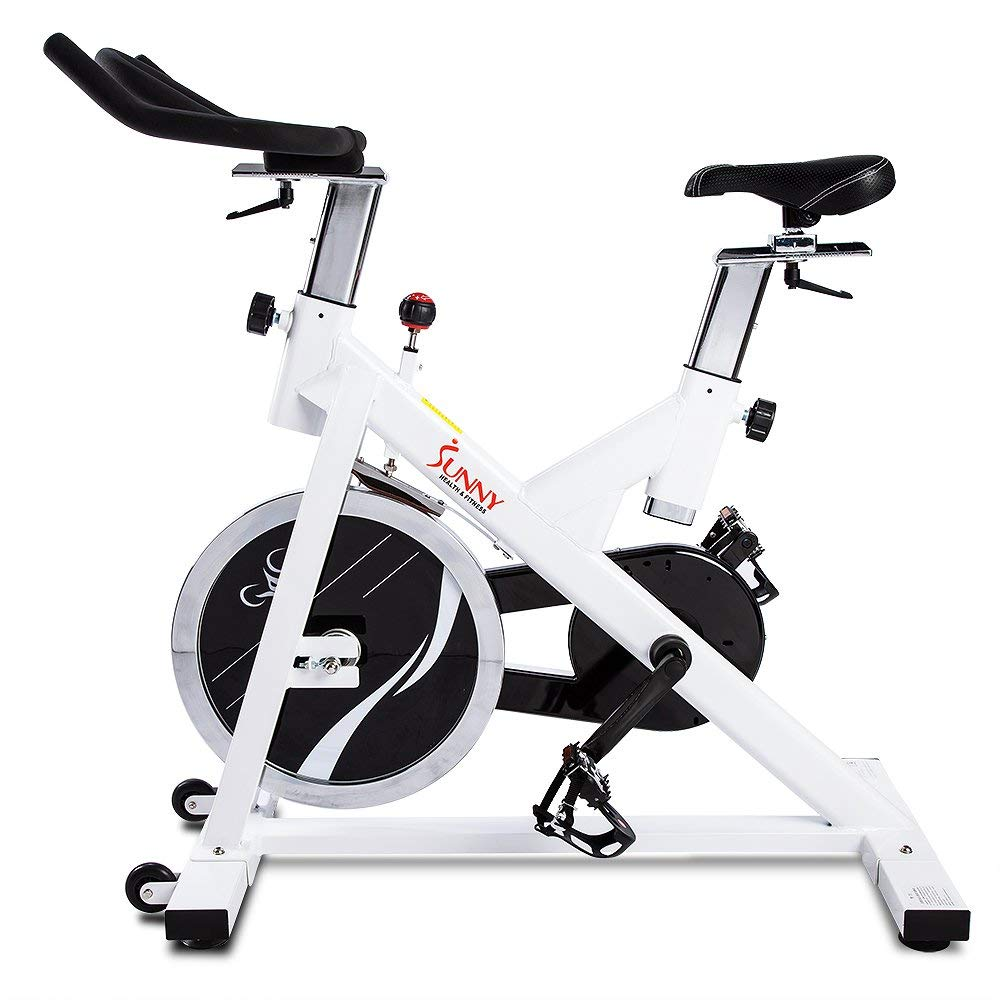gym_bike: (36, 35, 985, 956)
